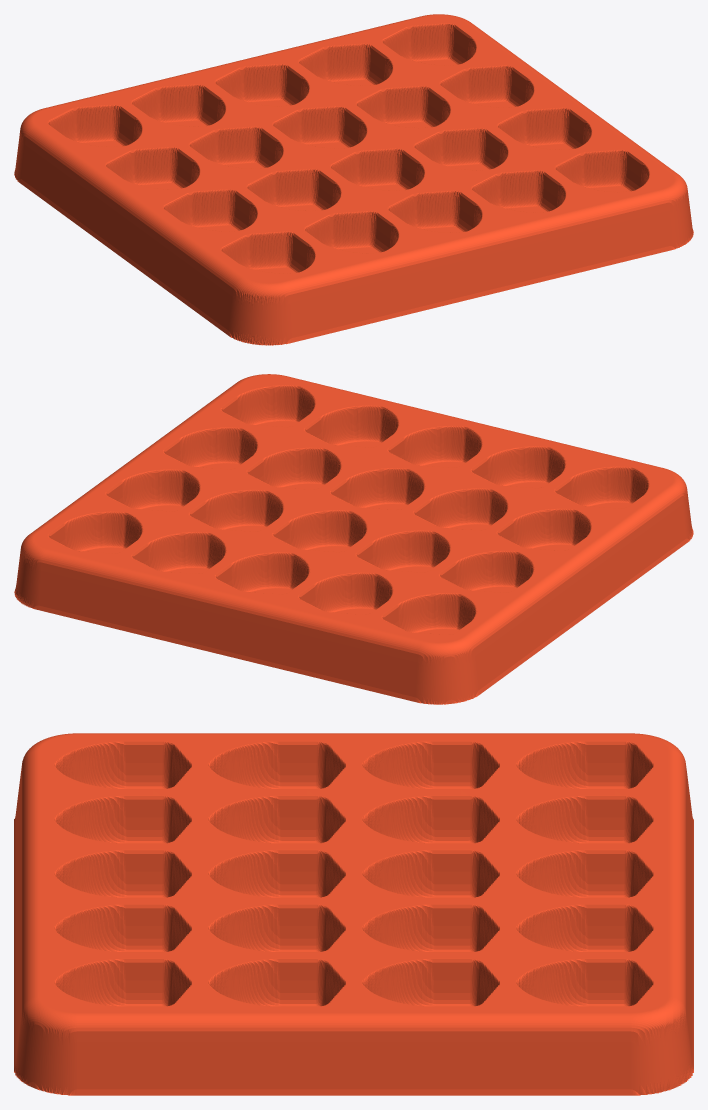
The model's file is mold.glb.
3 renders of one model, top to bottom at view 1: azimuth 30°, elevation 25°; view 2: azimuth 150°, elevation 25°; view 3: azimuth 270°, elevation 25°, orthographic. The views are drawn at different scales.
Parts seen in each view (by area): view 1: geometry_0; view 2: geometry_0; view 3: geometry_0.
Boxes of the visible parts, left/top/right/bottom form: geometry_0: left=14, top=14, right=693, bottom=345; geometry_0: left=14, top=374, right=693, bottom=704; geometry_0: left=14, top=733, right=693, bottom=1095.
Bounding box in the file's own units: 0.1012 × 0.0114 × 0.0972.
